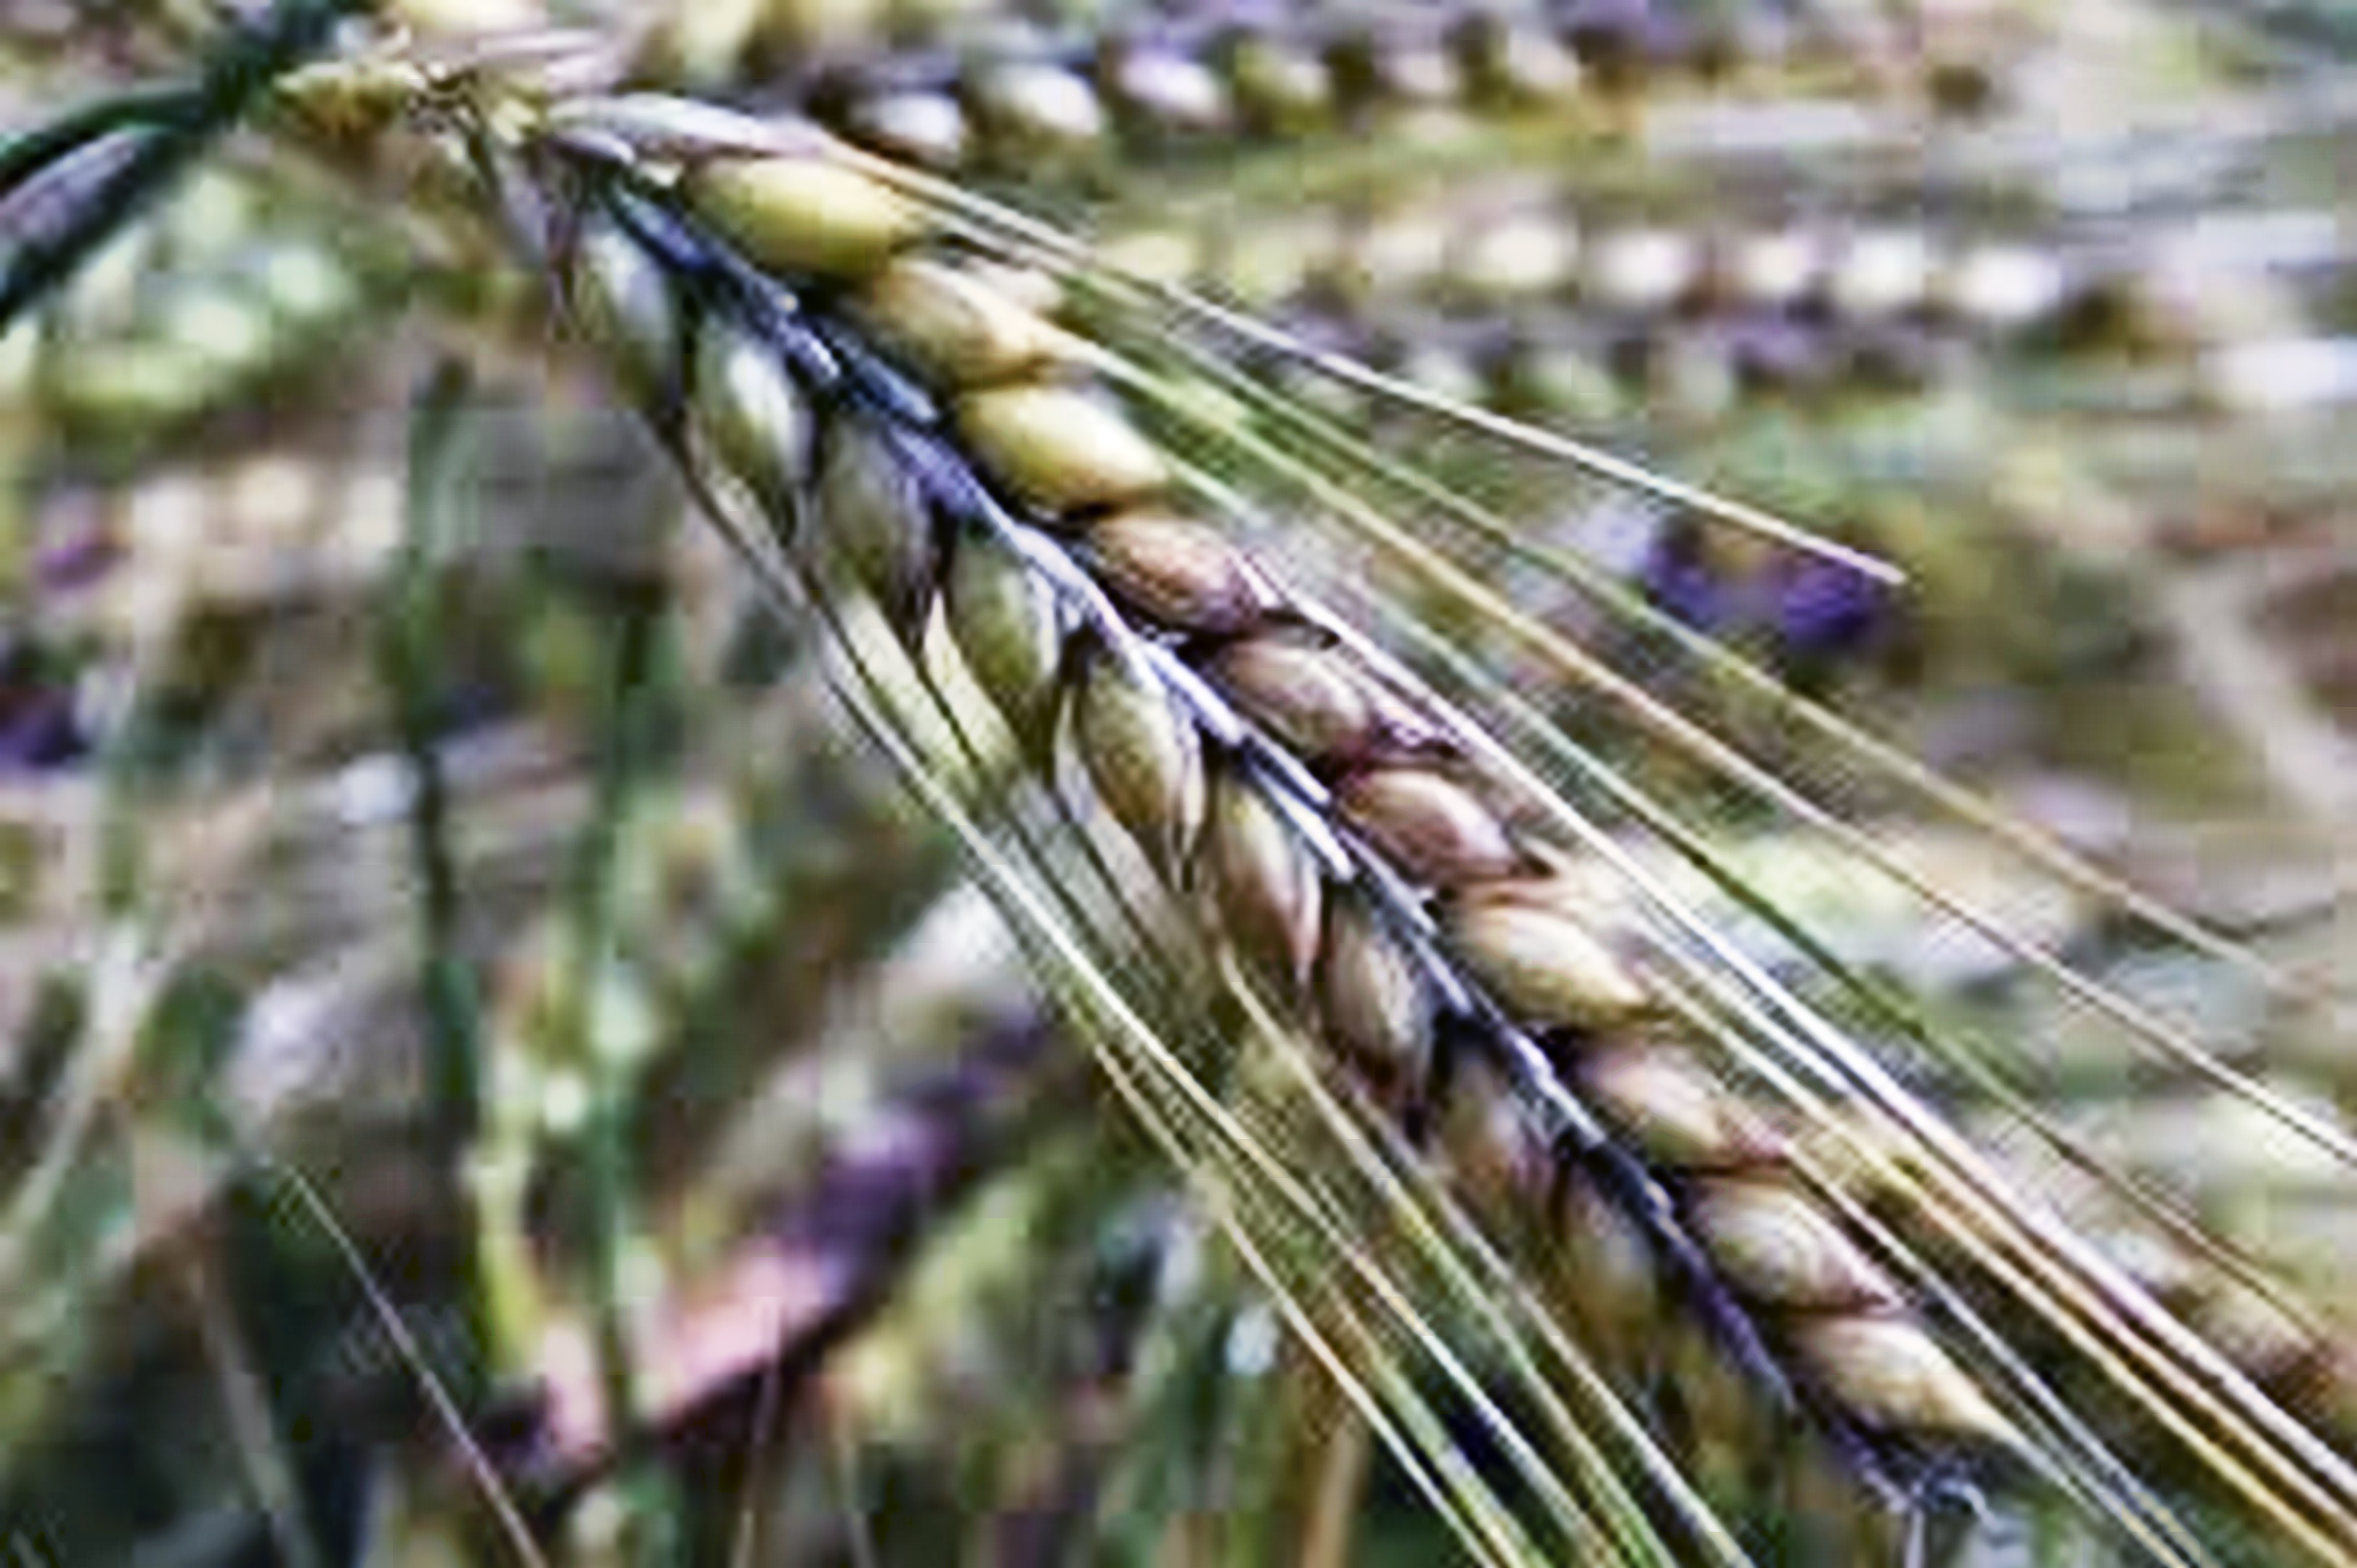Healthy Wheat: (521, 110, 1956, 1473)
